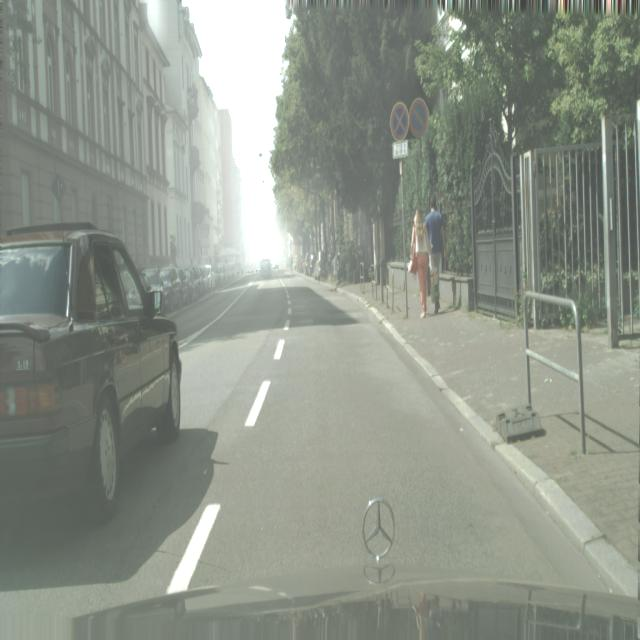bus: (424, 195, 446, 315), (410, 208, 432, 318)
person: (1, 222, 182, 521), (139, 266, 167, 314), (158, 264, 182, 311), (178, 267, 194, 304), (189, 266, 203, 299), (198, 264, 214, 292), (260, 258, 272, 278)
